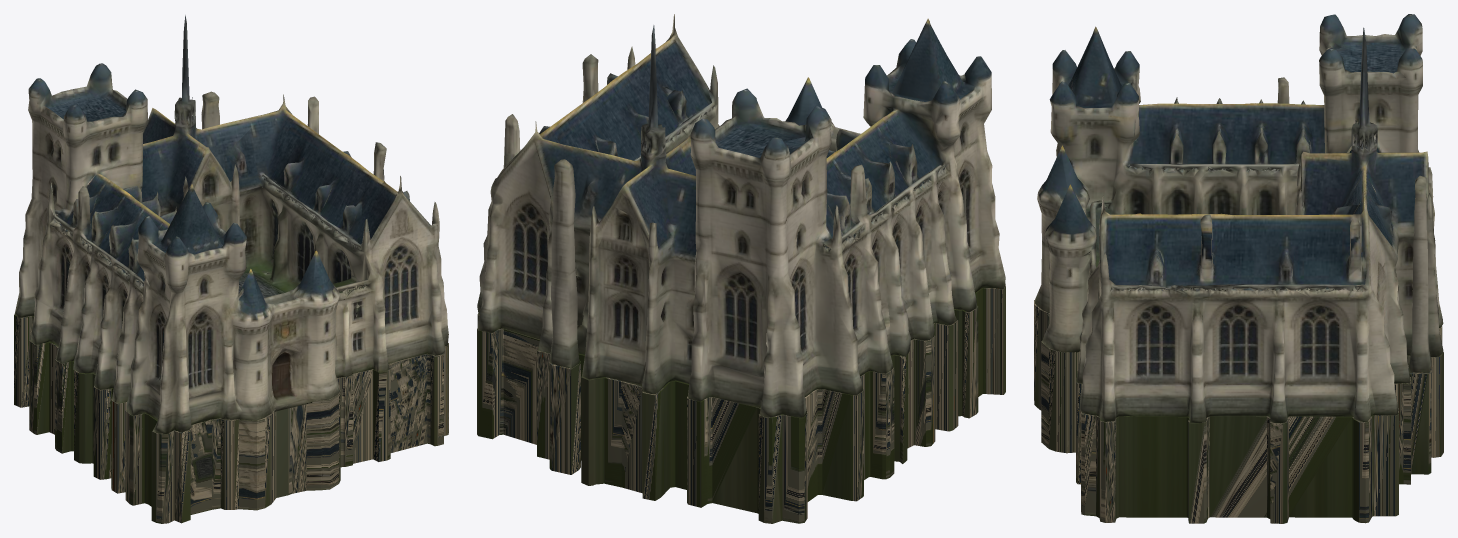
File: palace_c.glb
The picture shows the model from 3 angles, left to right: view 1: azimuth 30°, elevation 25°; view 2: azimuth 150°, elevation 25°; view 3: azimuth 270°, elevation 25°; orthographic projection. The views are drawn at different scales.
Visible parts, largest first — view 1: palace_c_export; view 2: palace_c_export; view 3: palace_c_export.
Part boxes in pixels (x1,y1,x2,y2): palace_c_export: [14, 15, 448, 523]; palace_c_export: [477, 14, 1005, 523]; palace_c_export: [1034, 14, 1443, 523].
Bounding box in the file's own units: 67.71 × 76.03 × 68.
Materials: 2 (2 with a texture image).
